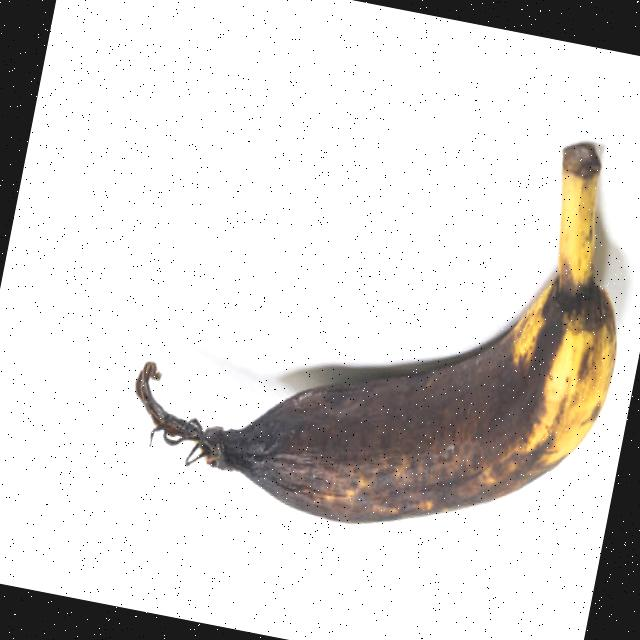Rotten: (117, 63, 640, 568)
